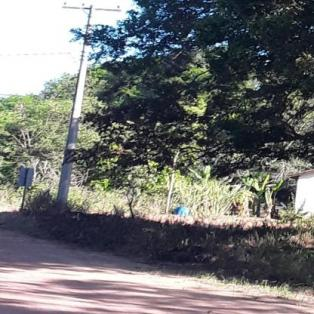Poste: (44, 3, 96, 211)
